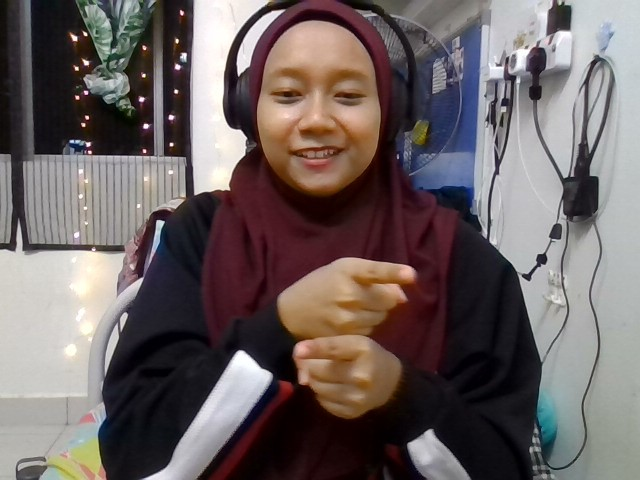Betul: (287, 257, 417, 418)
